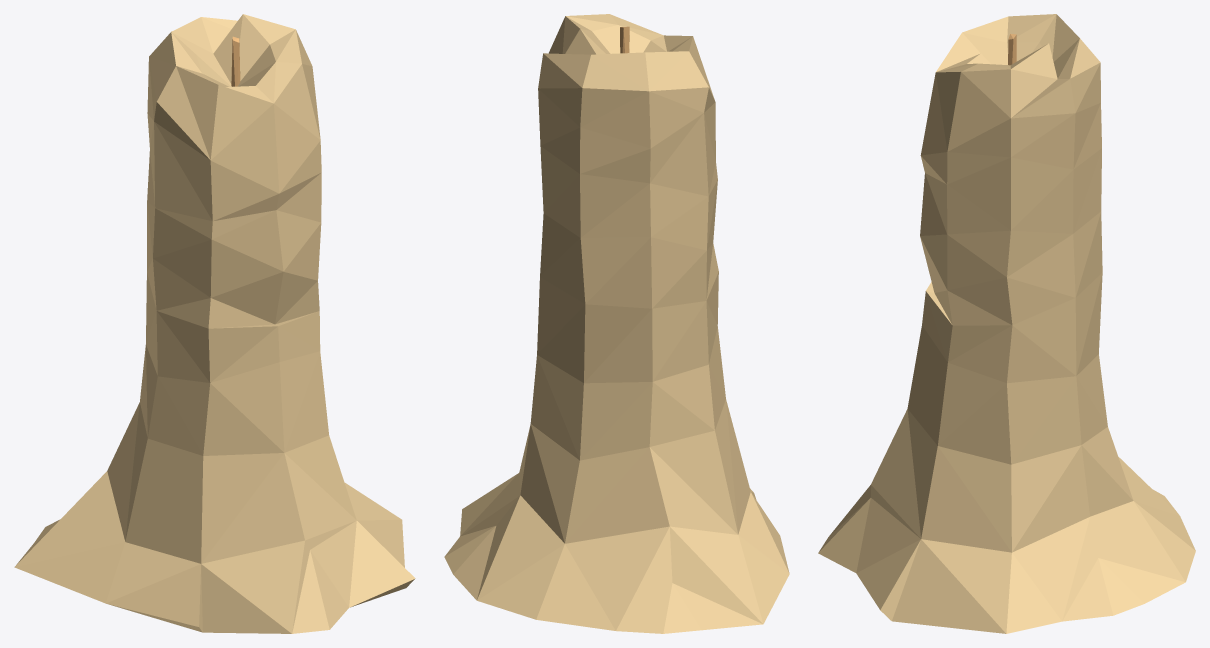
File: SFHW_Candle_001.fbx
The picture shows the model from 3 angles, left to right: view 1: azimuth 30°, elevation 25°; view 2: azimuth 150°, elevation 25°; view 3: azimuth 270°, elevation 25°; orthographic projection.
Parts seen in each view (by area): view 1: SFHW_Candle_001; view 2: SFHW_Candle_001; view 3: SFHW_Candle_001.
Part boxes in pixels (x1=…): SFHW_Candle_001: x1=14, y1=14, x2=415, y2=633; SFHW_Candle_001: x1=444, y1=14, x2=789, y2=633; SFHW_Candle_001: x1=818, y1=14, x2=1195, y2=633.
Bounding box in the file's own units: 19.95 × 29.88 × 19.06.
